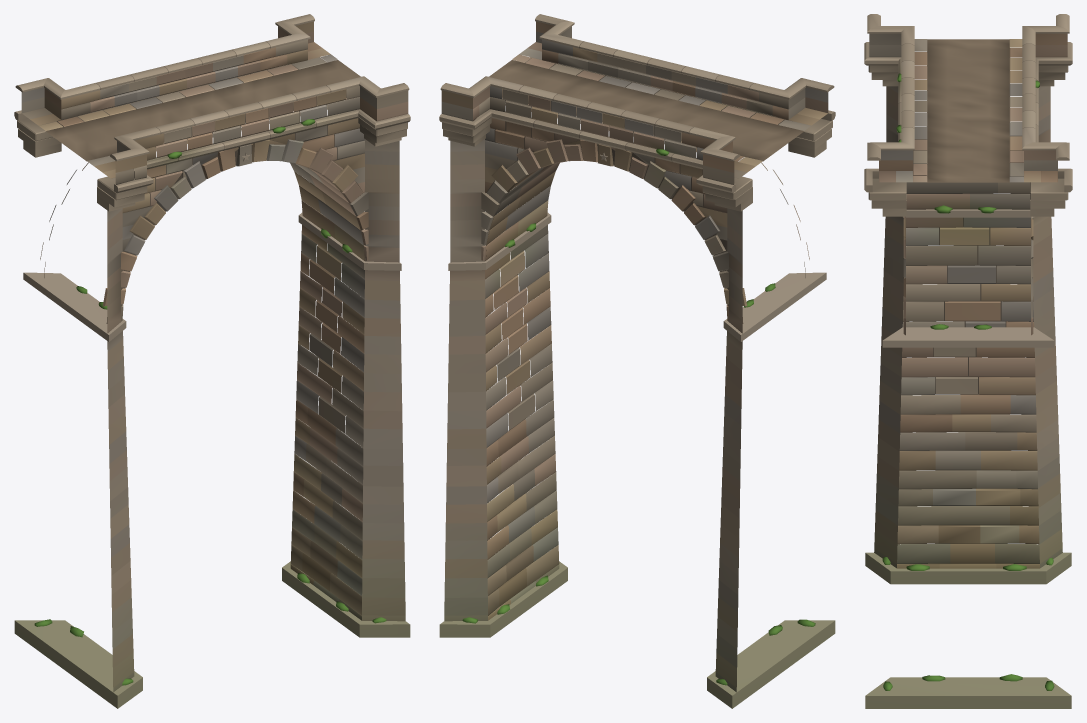
Rendered from viaduct-span.glb.
3 renders of one model, left to right at view 1: azimuth 30°, elevation 25°; view 2: azimuth 150°, elevation 25°; view 3: azimuth 270°, elevation 25°, orthographic.
Parts seen in each view (by area): view 1: viaduct-span Viaduct stone, viaduct-span Ballast, viaduct-span Moss; view 2: viaduct-span Viaduct stone, viaduct-span Ballast, viaduct-span Moss; view 3: viaduct-span Viaduct stone, viaduct-span Ballast, viaduct-span Moss.
Part boxes in pixels (x1,y1,x2,y2): viaduct-span Viaduct stone: (14,14,410,708); viaduct-span Ballast: (45,60,360,161); viaduct-span Moss: (34,119,386,685); viaduct-span Viaduct stone: (439,14,835,708); viaduct-span Ballast: (489,60,804,161); viaduct-span Moss: (462,148,815,685); viaduct-span Viaduct stone: (864,14,1072,708); viaduct-span Ballast: (927,39,1009,182); viaduct-span Moss: (882,73,1054,690).
Bounding box in the file's own units: 14 × 25.16 × 8.6.
